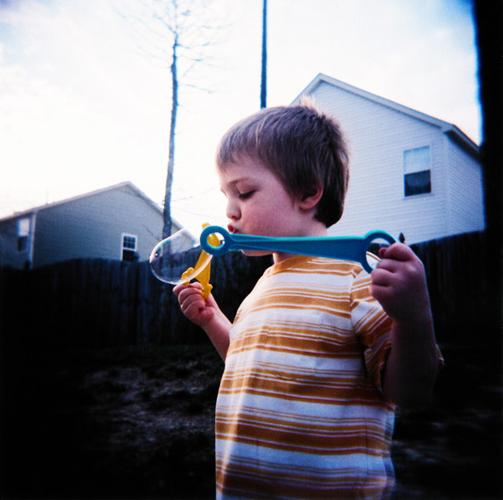person: (173, 104, 443, 498)
